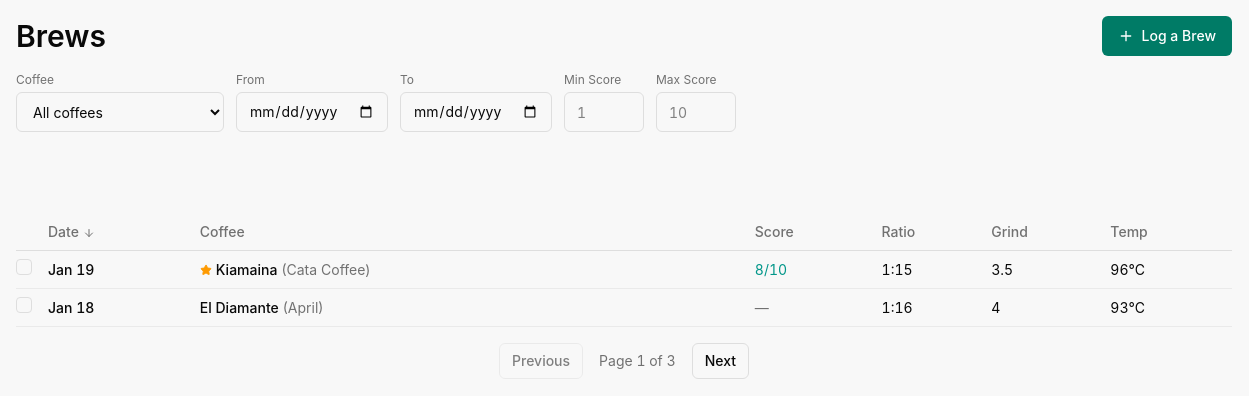
Test: BrewsPage › navigates to next page when Next is clicked
Expected: the text "Page 1 of 3" is shown, [599, 351, 676, 371]
What coordinates should you click on to do the following:
click the button "Next"
I would click on:
 (720, 361)
Its box is [692, 343, 749, 379].
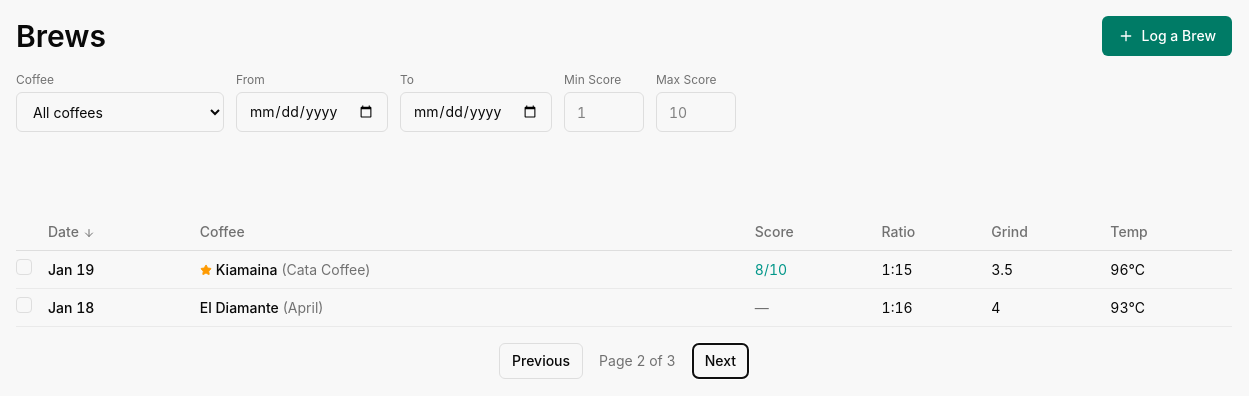
Now the text "Page 2 of 3" is shown, box [599, 351, 676, 371]
